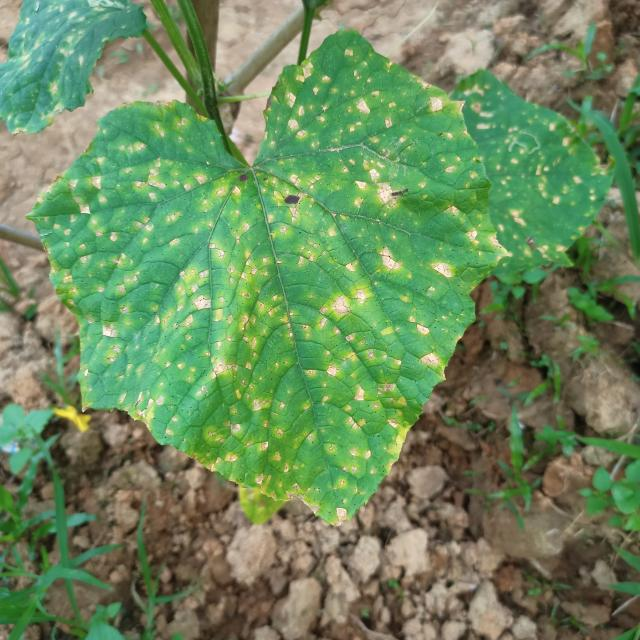disease_cucumber: (51, 57, 470, 507), (458, 78, 604, 275)
